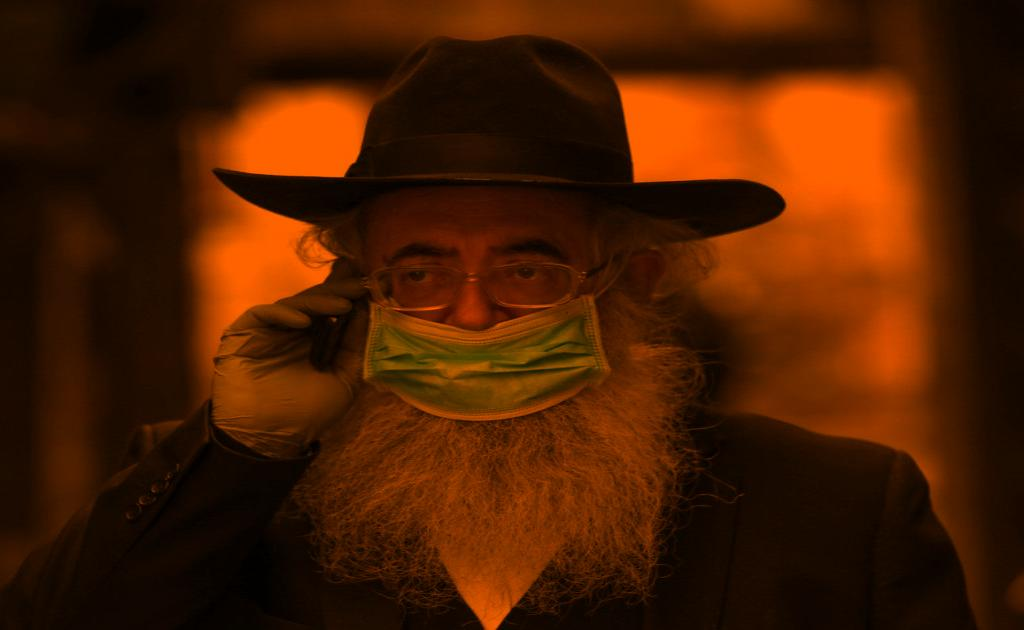mask_weared_incorrect: (341, 192, 660, 427)
